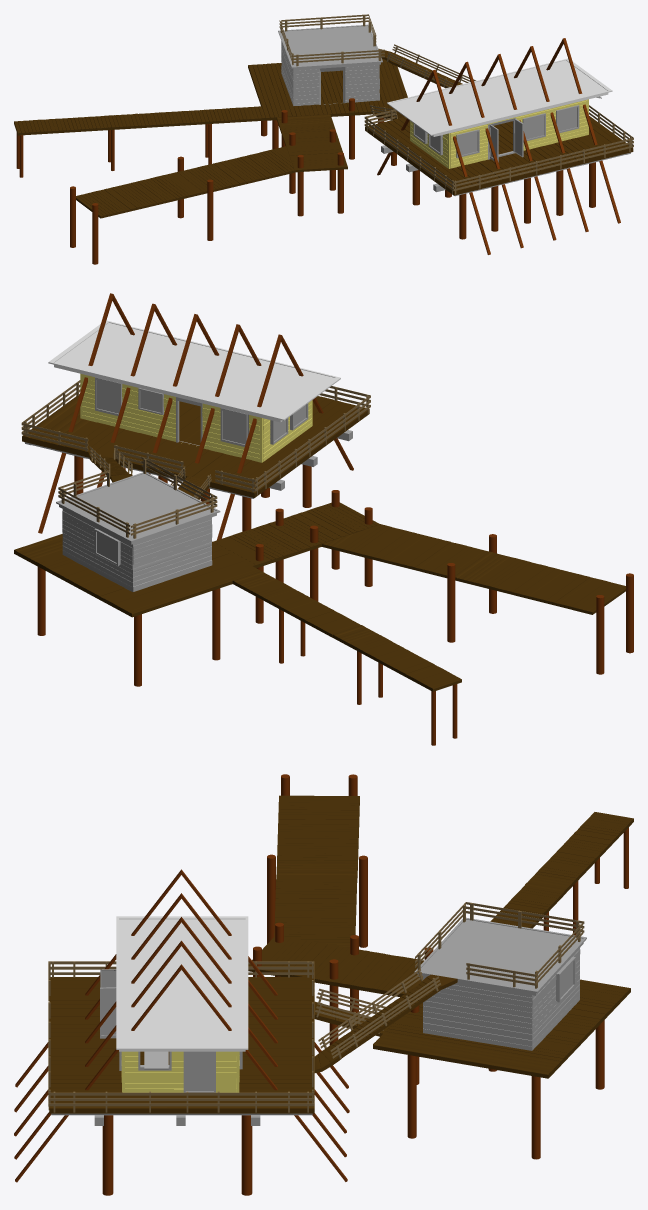
File: Ahouse.fbx
The picture shows the model from 3 angles, top to bottom: view 1: azimuth 30°, elevation 25°; view 2: azimuth 150°, elevation 25°; view 3: azimuth 270°, elevation 25°; orthographic projection. The views are drawn at different scales.
Parts seen in each view (by area): view 1: pPlane1, pCube164, pCube177, pPlane2, pCube191, pCube181, pCube144, pCube234, pCube186, pCube188, pCube180, pCube12 (+19 smaller); view 2: pPlane1, pCube164, pCube234, pCube177, pPlane2, pCube191, pCube144, pCube181, pCube186, pCube188, pCube180, pCube12 (+11 smaller); view 3: pCube164, pPlane1, pCube177, pCube234, pPlane2, pCube191, pCube181, pCube186, pCube188, pCube144, pCube192, pCube7 (+19 smaller).
Part boxes in pixels (x1,y1,x2,y2): pPlane1: (387,58,612,136); pCube164: (365,116,633,195); pCube177: (248,58,407,120); pPlane2: (278,24,382,70); pCube191: (76,170,207,218); pCube181: (276,114,347,172); pCube144: (410,99,588,168); pCube234: (281,41,379,105); pCube186: (184,146,296,191); pCube188: (14,113,141,135); pCube180: (138,106,265,127); pCube12: (377,69,490,254); pPlane1: (48,320,340,422); pCube164: (22,394,369,497); pCube234: (62,509,212,591); pCube177: (14,534,260,617); pPlane2: (56,472,220,544); pCube191: (455,551,625,614); pCube144: (80,373,312,462); pCube181: (212,502,380,568); pCube186: (322,524,488,578); pCube188: (333,625,461,691); pCube180: (232,571,360,637); pCube12: (217,334,353,540); pCube164: (49,977,314,1113); pPlane1: (116,916,248,1051); pCube177: (373,979,630,1078); pCube234: (423,948,580,1050); pPlane2: (414,917,586,995); pCube191: (276,795,359,877); pCube181: (248,936,423,996); pCube186: (274,874,357,947); pCube188: (525,812,633,894); pCube144: (121,1051,239,1092); pCube192: (313,974,457,1072); pCube7: (15,964,347,1182).
Size of the model in its own units: 512 by 169 by 396.
